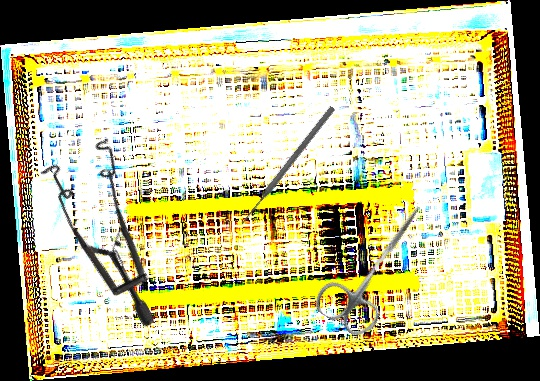Iris Scissors: (309, 187, 444, 342)
Pusher: (238, 104, 337, 227)
Speculum: (5, 118, 226, 330)
